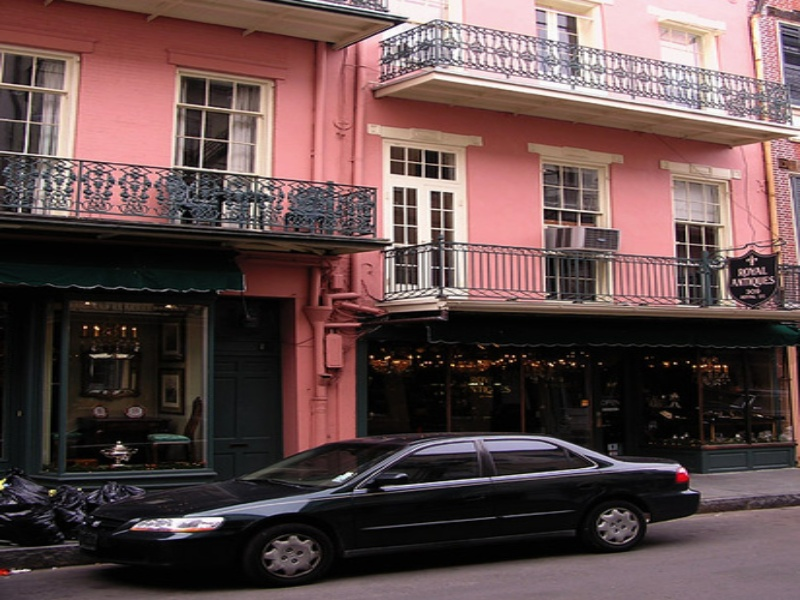car: (78, 430, 702, 582)
